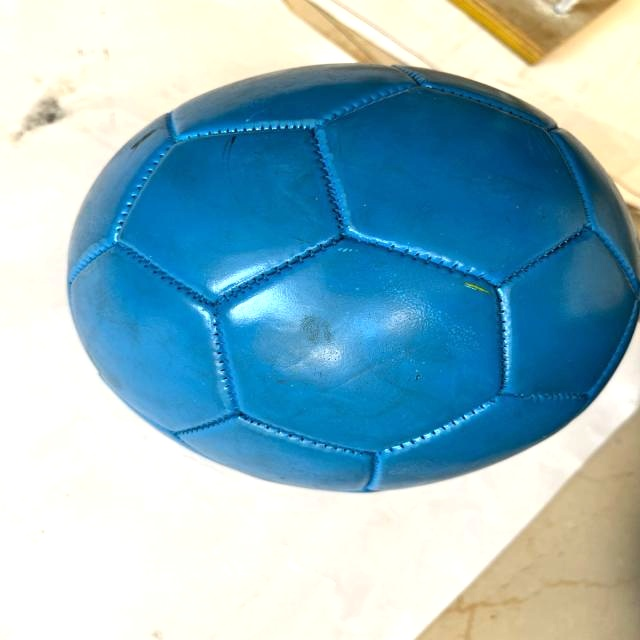blue_ball: (68, 60, 640, 490)
